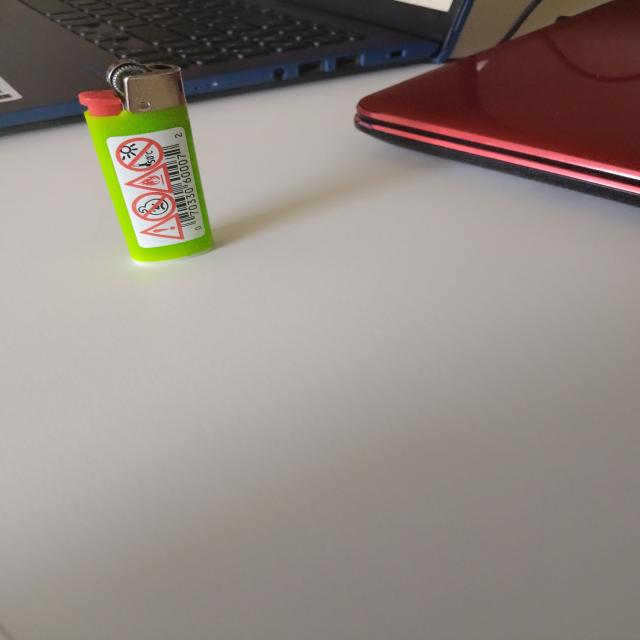lighter: (76, 59, 215, 262)
